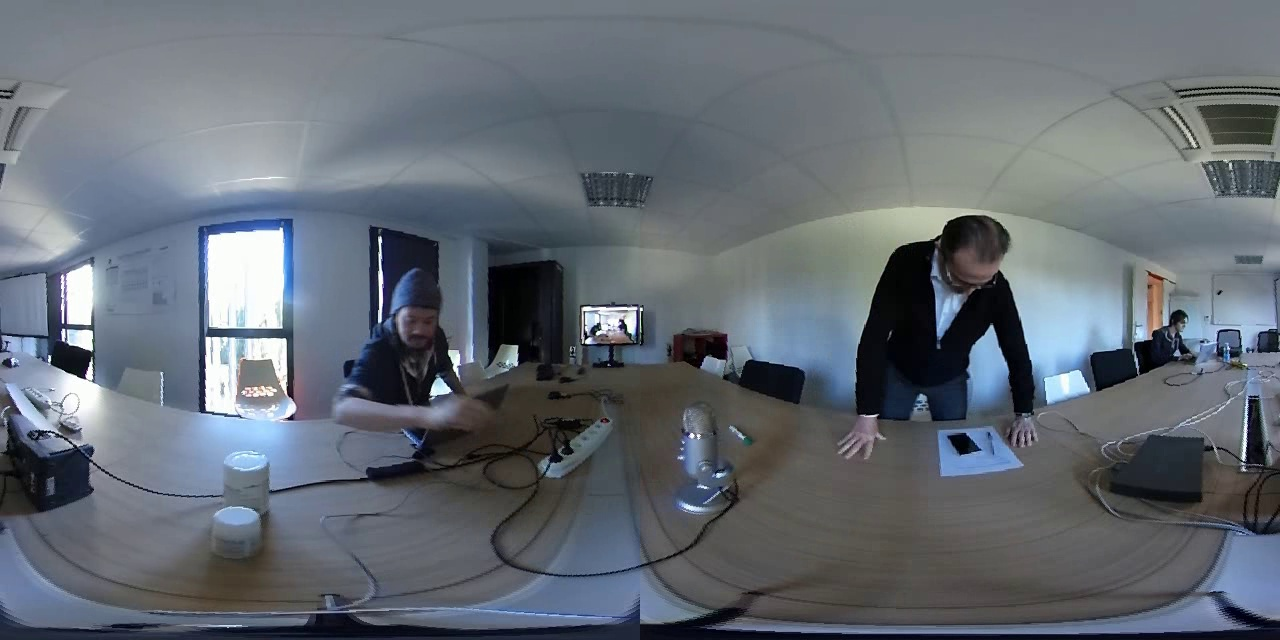person: (864, 207, 1049, 404), (343, 253, 485, 425), (1150, 295, 1197, 361)
